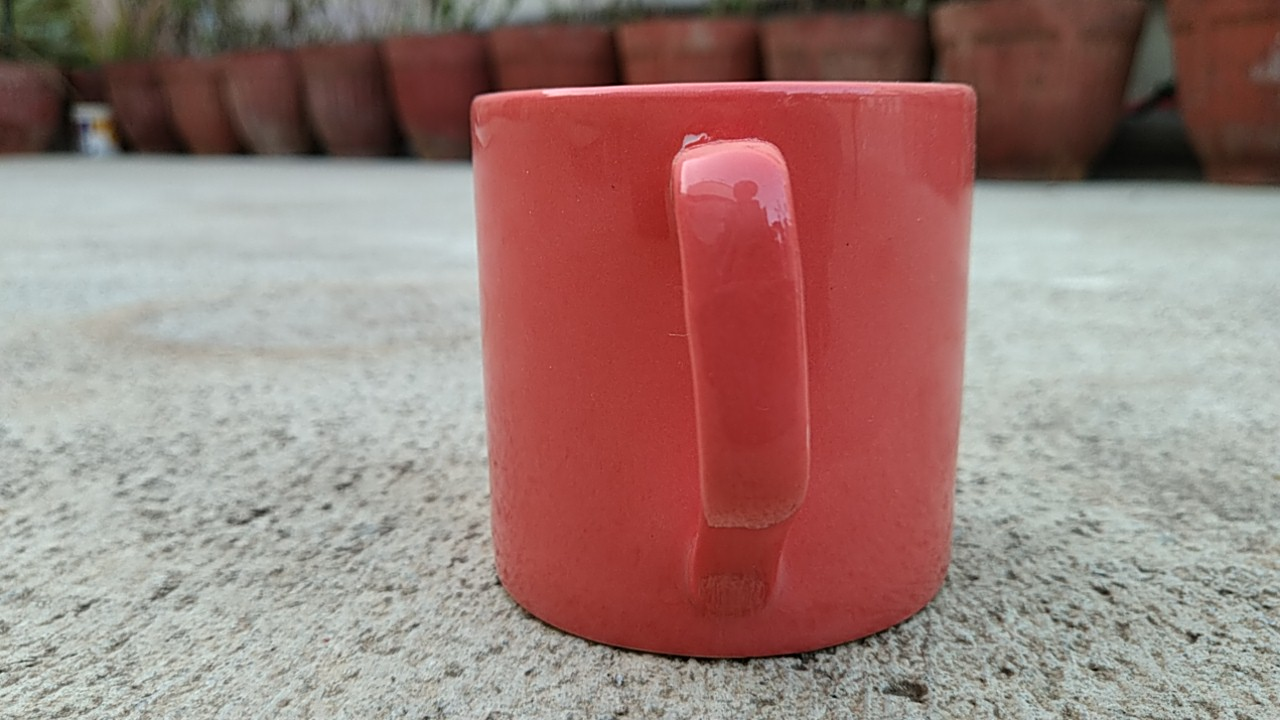cup: (438, 60, 1015, 671)
